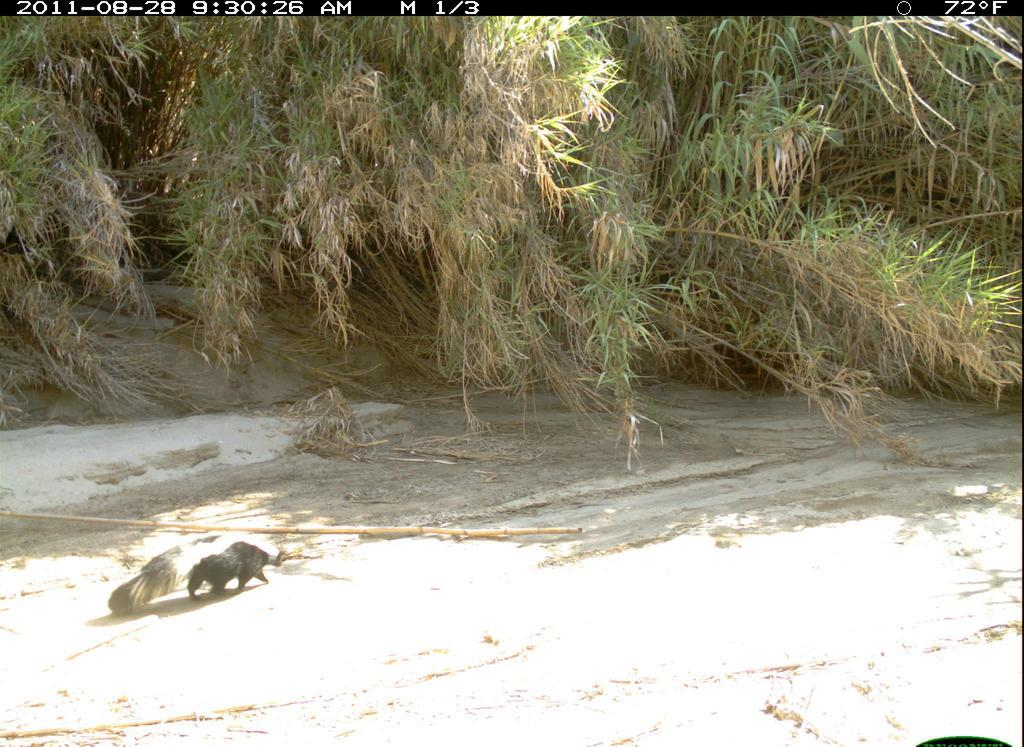skunk: (102, 525, 297, 616)
